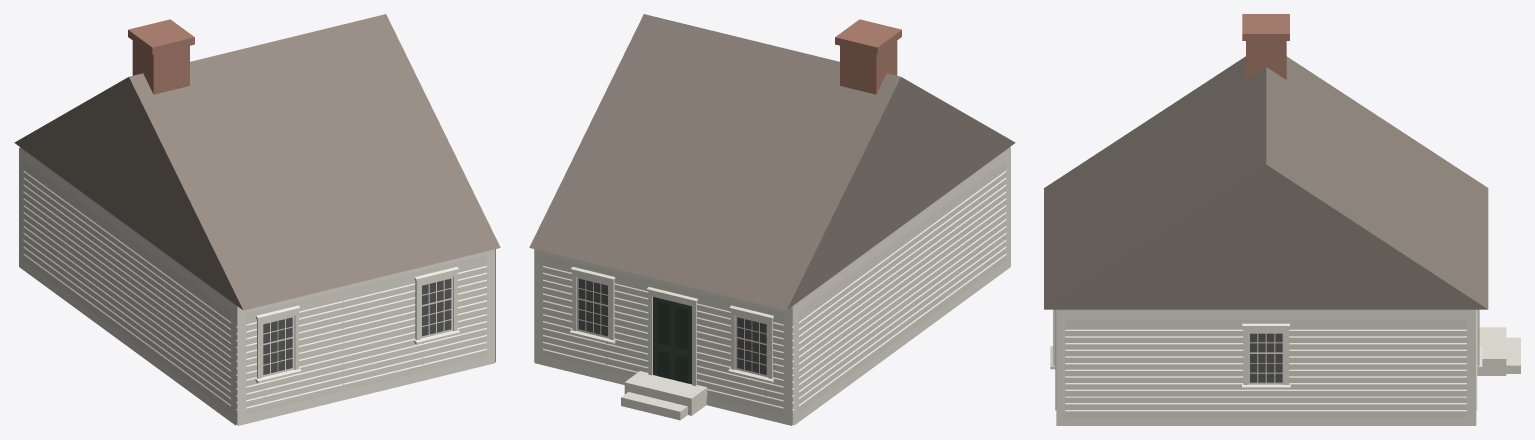
The model's file is recon_1835_blk_school_section_tier_95_d4_04__inferred_1835.glb.
3 views of the same model, side by side, from view 1: azimuth 30°, elevation 25°; view 2: azimuth 150°, elevation 25°; view 3: azimuth 270°, elevation 25° (orthographic). The views are drawn at different scales.
Visible parts, largest first — view 1: recon_1835_blk_school_section_tier_95_d4_04__inferred_1835; view 2: recon_1835_blk_school_section_tier_95_d4_04__inferred_1835; view 3: recon_1835_blk_school_section_tier_95_d4_04__inferred_1835.
Part boxes in pixels (box(x1,y1,x2,y2)): recon_1835_blk_school_section_tier_95_d4_04__inferred_1835: box(14, 14, 500, 425); recon_1835_blk_school_section_tier_95_d4_04__inferred_1835: box(529, 14, 1015, 425); recon_1835_blk_school_section_tier_95_d4_04__inferred_1835: box(1044, 14, 1520, 425).
Size of the model in its own units: 6.09 by 6.71 by 9.83.
